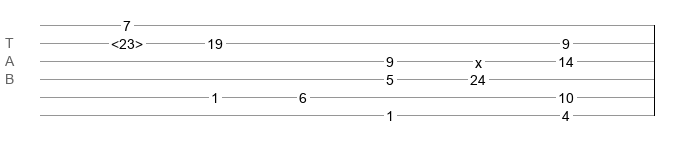1: (211, 90, 219, 100), (386, 108, 394, 118)
10: (558, 90, 574, 100)
14: (558, 54, 574, 64)
19: (207, 36, 223, 46)
24: (470, 72, 486, 82)
4: (562, 108, 570, 118)
5: (386, 72, 394, 82)
6: (299, 90, 307, 100)
7: (123, 18, 131, 28)
9: (386, 54, 394, 64), (562, 36, 570, 46)
harmonic: (111, 36, 143, 46)
x: (475, 55, 482, 63)
